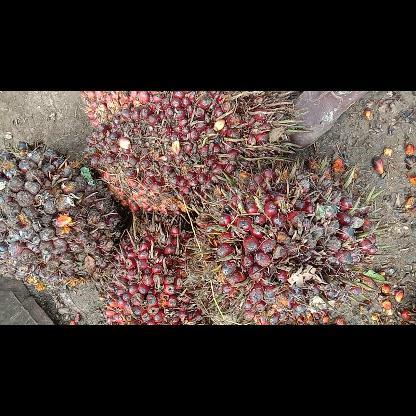Kurang masak: (0, 137, 125, 295)
TBS masak: (184, 155, 388, 324), (78, 90, 294, 218), (98, 208, 216, 324)
